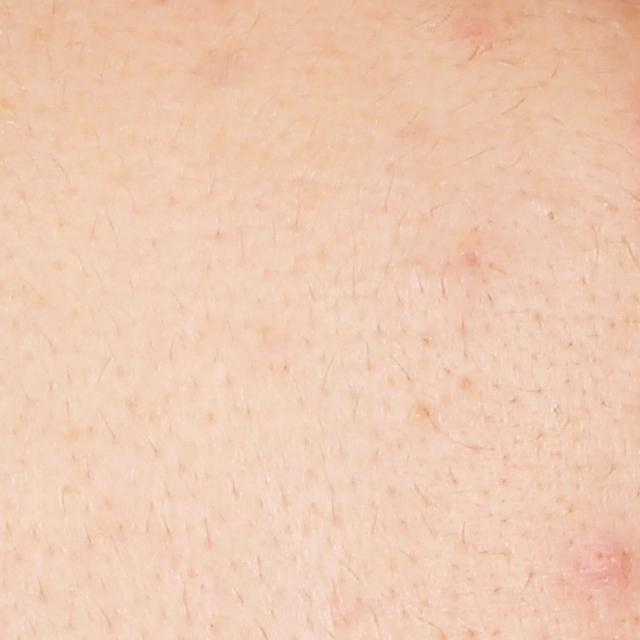comedo: (545, 208, 560, 224)
papule: (555, 530, 619, 590)
